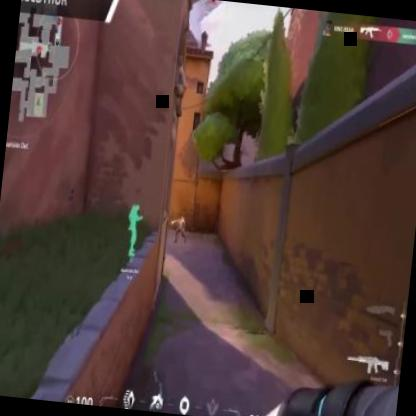enemy: (173, 212, 188, 246)
enemy_head: (178, 213, 182, 219)
